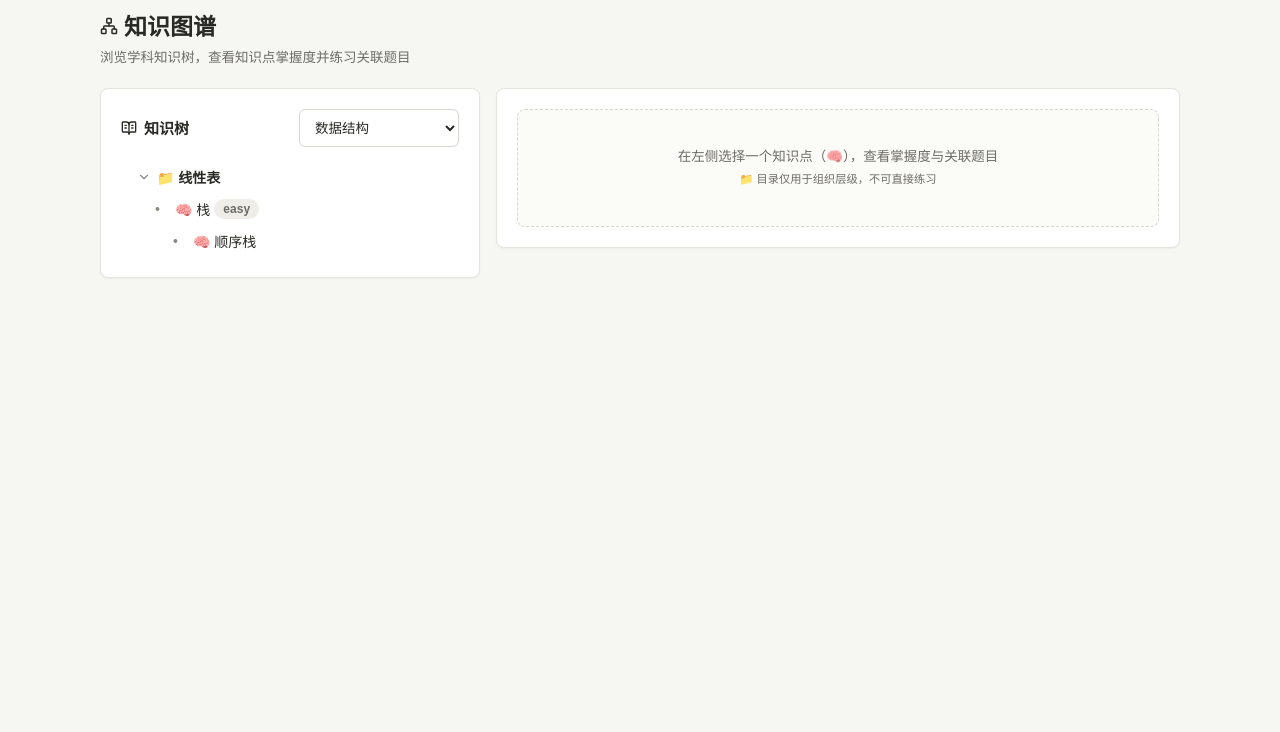
Scenario: KnowledgeExploreView › 点击 concept 显示详情、掌握度与关联题目
Click the button with class "tree-btn" showing "🧠 栈 easy". click: (193, 210)
box: [147,193,459,225]
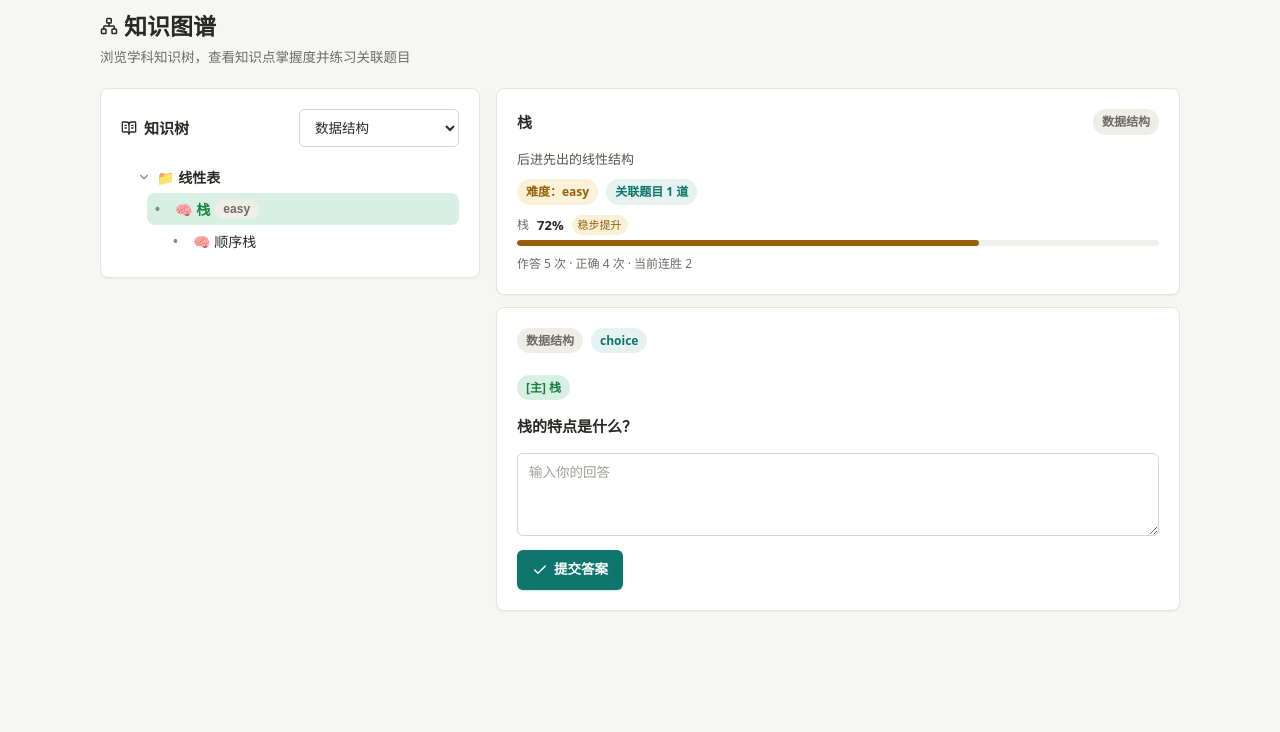
Now the text "后进先出的线性结构" is shown, box [517,150,634,168]
Now the text "72%" is shown, box [537,214,564,235]
Now the text "栈的特点是什么？" is shown, box [517,416,637,436]
